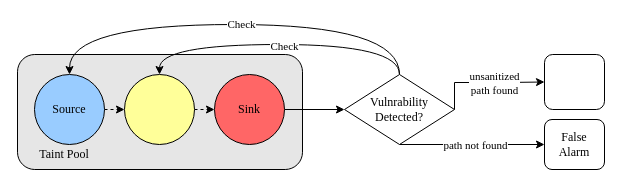
Some shapes in this 622 by 187 pixel diagram are drawn without their labels. The shapes that lost their labels are listed below. From the top down, each one's box as (x1, y1, x2, y2) in pixels, then its label:
(544, 54, 604, 110): Confirm
(124, 74, 194, 144): Propagator
